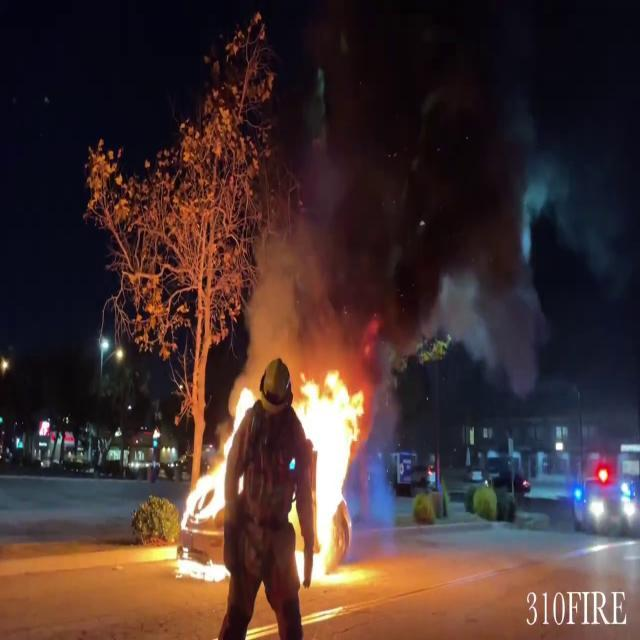Fire: (292, 363, 368, 590), (168, 438, 230, 580)
Smoke: (247, 1, 548, 368)
